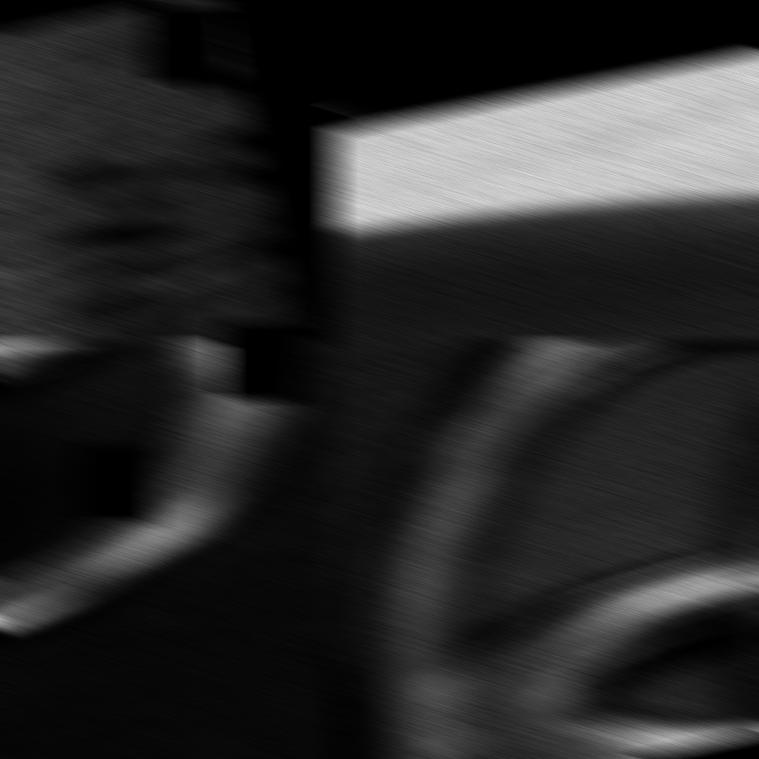Airbag: (327, 339, 759, 759), (327, 0, 759, 342), (0, 339, 339, 759), (0, 0, 339, 342)
